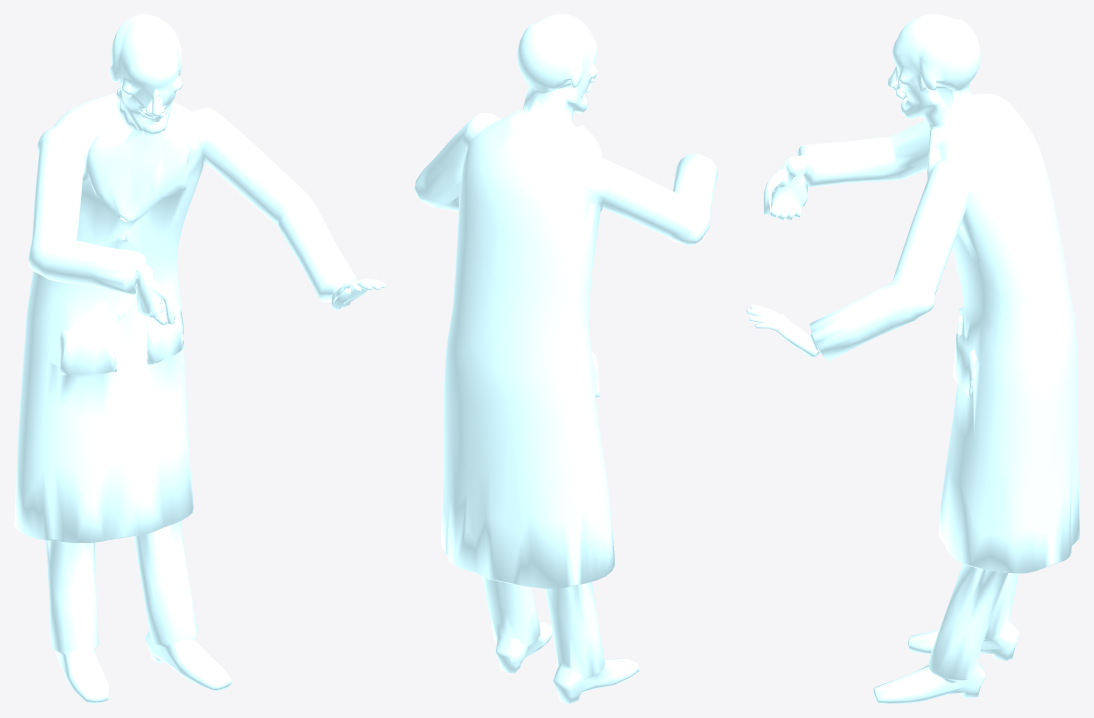
The model's file is echo_strand_desk.glb.
The picture shows the model from 3 angles, left to right: view 1: azimuth 30°, elevation 25°; view 2: azimuth 150°, elevation 25°; view 3: azimuth 270°, elevation 25°; orthographic projection. The views are drawn at different scales.
Parts seen in each view (by area): view 1: echo_strand_desk; view 2: echo_strand_desk; view 3: echo_strand_desk.
Part boxes in pixels (x1,y1,x2,y2): echo_strand_desk: (14, 14, 385, 703); echo_strand_desk: (414, 14, 717, 703); echo_strand_desk: (746, 14, 1079, 703).
Bounding box in the file's own units: 0.7767 × 1.71 × 0.782.
